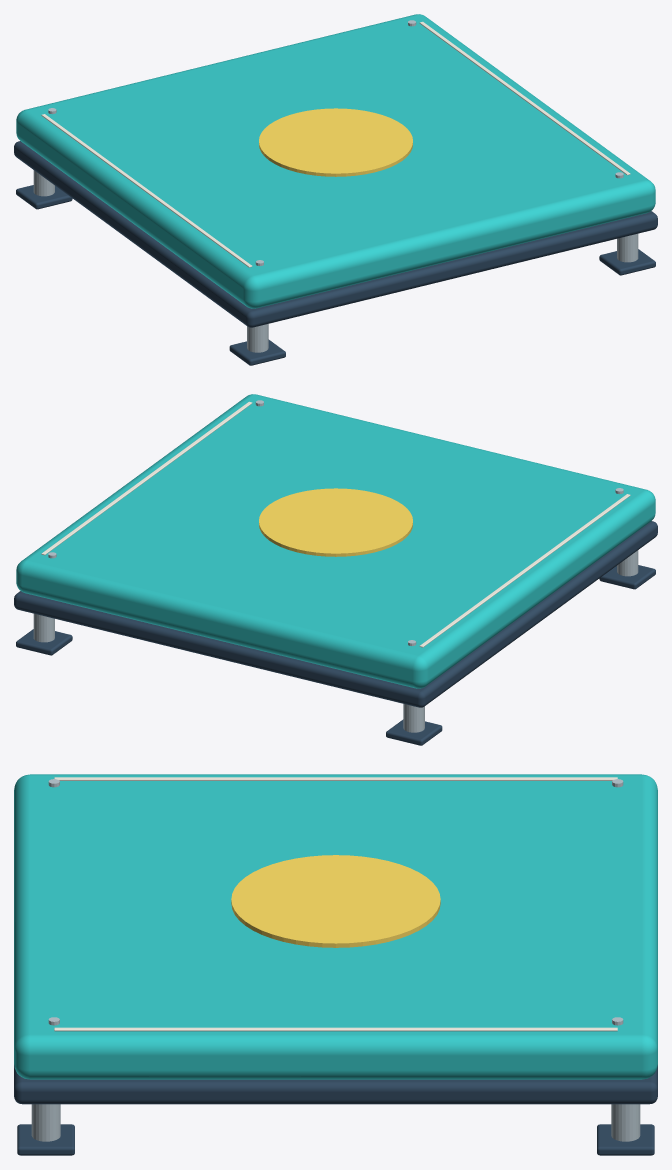
File: party-obstacle-course-party-obstacle-course-junction-eedd3990__28922.glb
3 views of the same model, one above another, from view 1: azimuth 30°, elevation 25°; view 2: azimuth 150°, elevation 25°; view 3: azimuth 270°, elevation 25° (orthographic). The views are drawn at different scales.
Parts seen in each view (by area): view 1: party-obstacle-course-junction; view 2: party-obstacle-course-junction; view 3: party-obstacle-course-junction.
Part boxes in pixels (left/top/right/bottom): party-obstacle-course-junction: left=14, top=14, right=657, bottom=365; party-obstacle-course-junction: left=14, top=394, right=657, bottom=745; party-obstacle-course-junction: left=14, top=774, right=657, bottom=1155.
Size of the model in its own units: 4 by 0.84 by 4.
